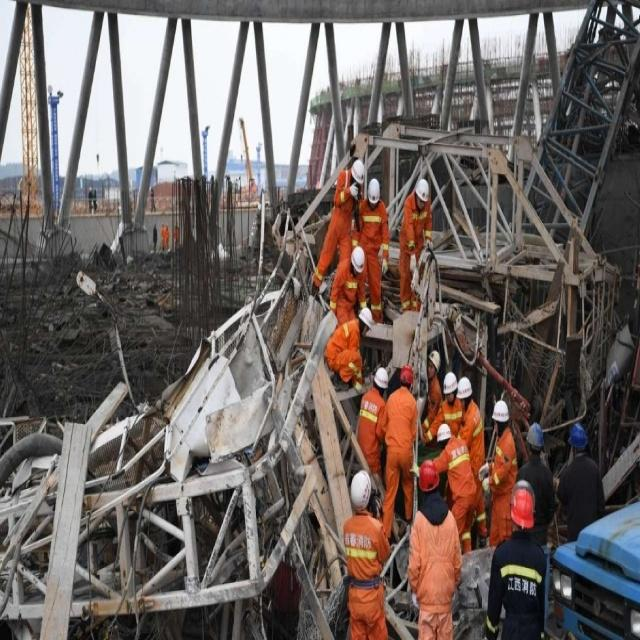helmet: (569, 562, 588, 610), (491, 533, 509, 580), (527, 562, 544, 610), (456, 504, 472, 545), (415, 238, 429, 282), (358, 409, 372, 451), (419, 611, 439, 640), (443, 496, 457, 536), (374, 492, 388, 531), (350, 329, 364, 367), (426, 468, 440, 505), (350, 214, 364, 250), (367, 237, 379, 279), (399, 486, 413, 518), (349, 628, 373, 640)
